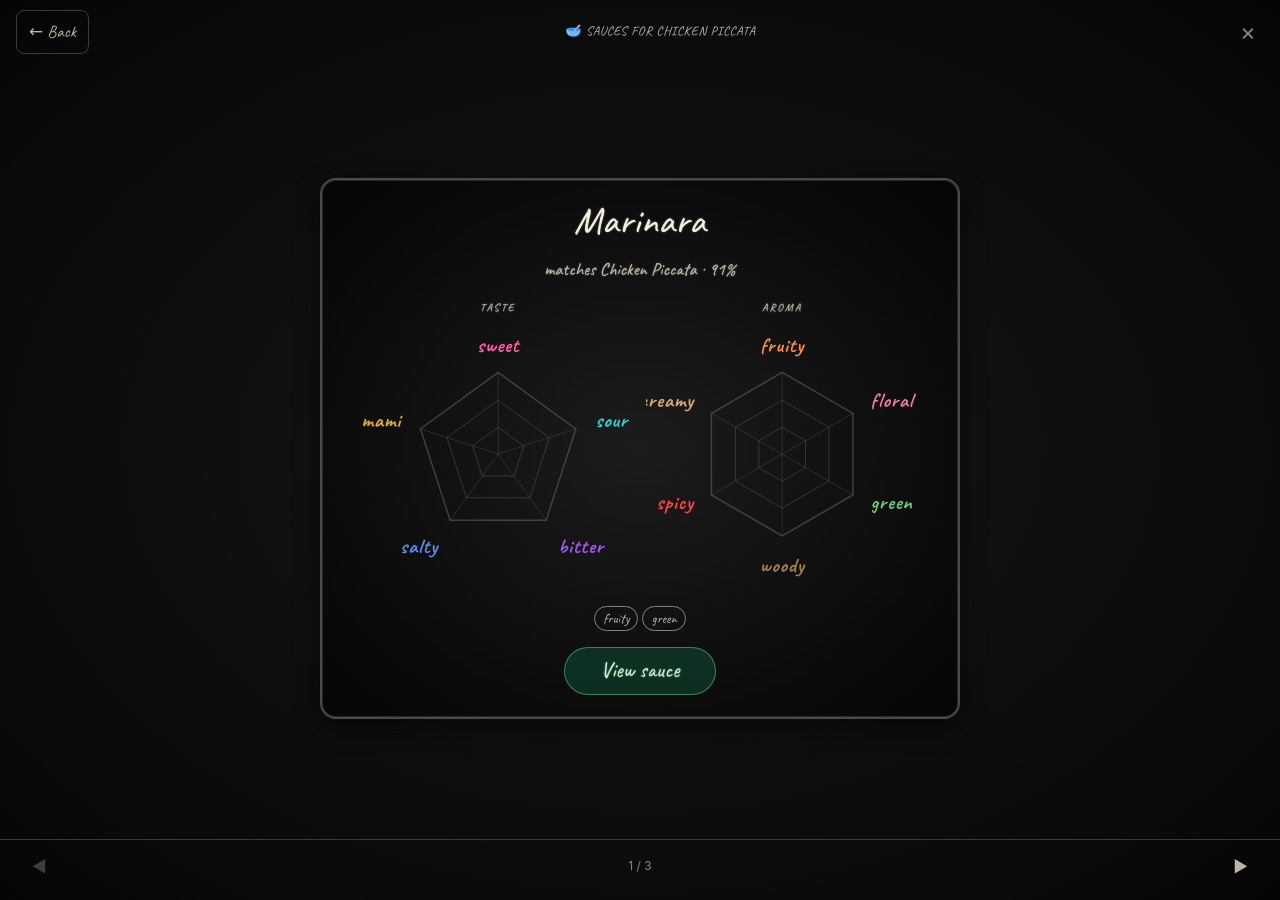
Test: SauceLab — matchesContext non-null renders the card deck › "View sauce" selects the sauce and swaps the deck for the detail card
What coordinates should you click on to do the following:
click the button with test id "sauce-card-view"
I would click on:
 (640, 671)
Its box is [564,647,716,695].
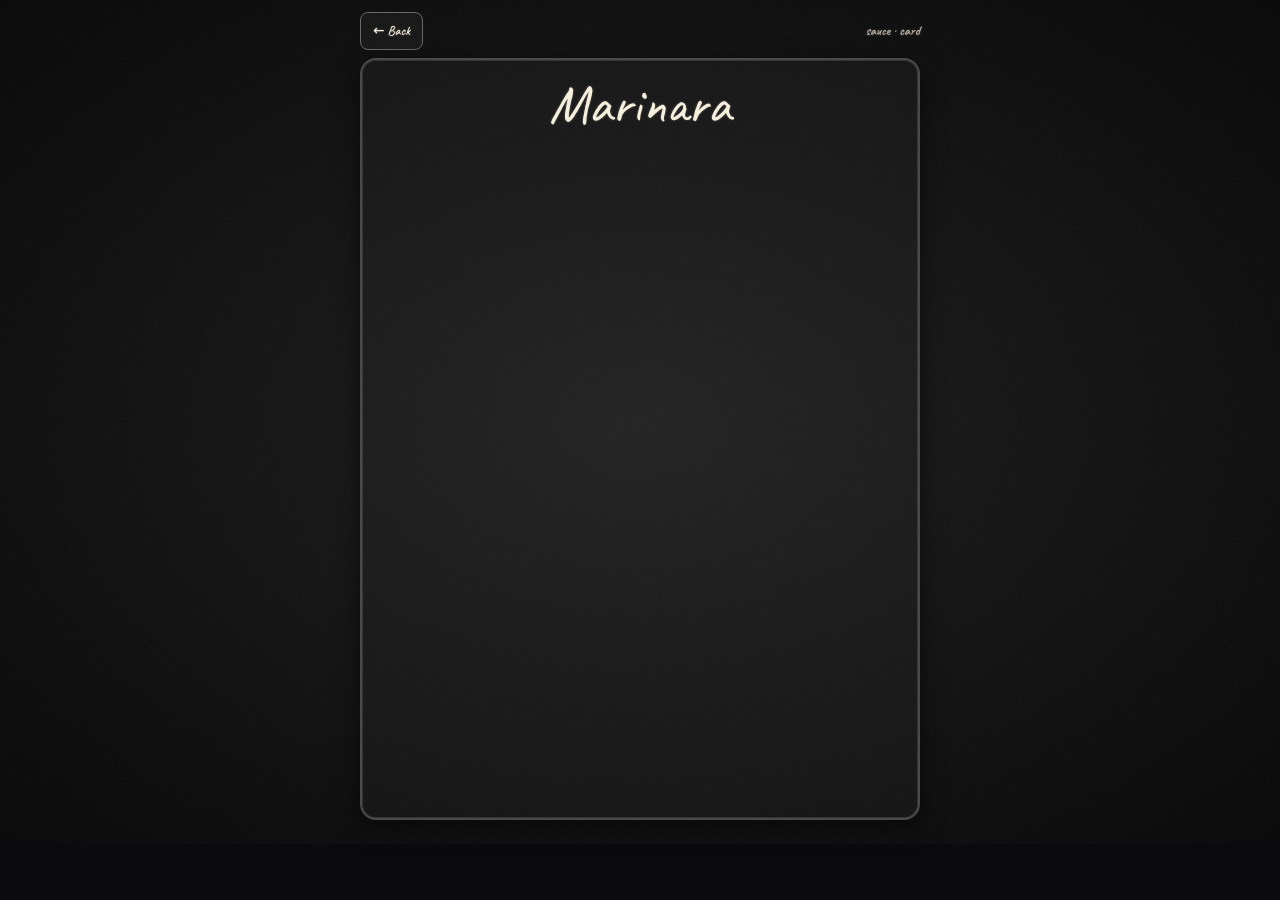
Now the element with test id "sauce-suggestion-deck" is gone
